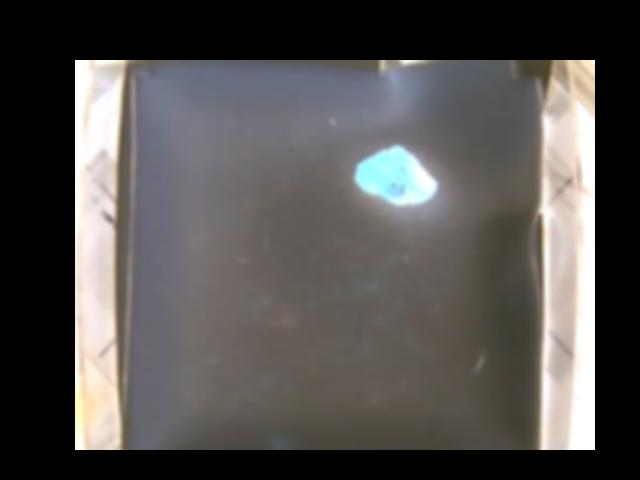Brisk: (352, 142, 437, 203)
